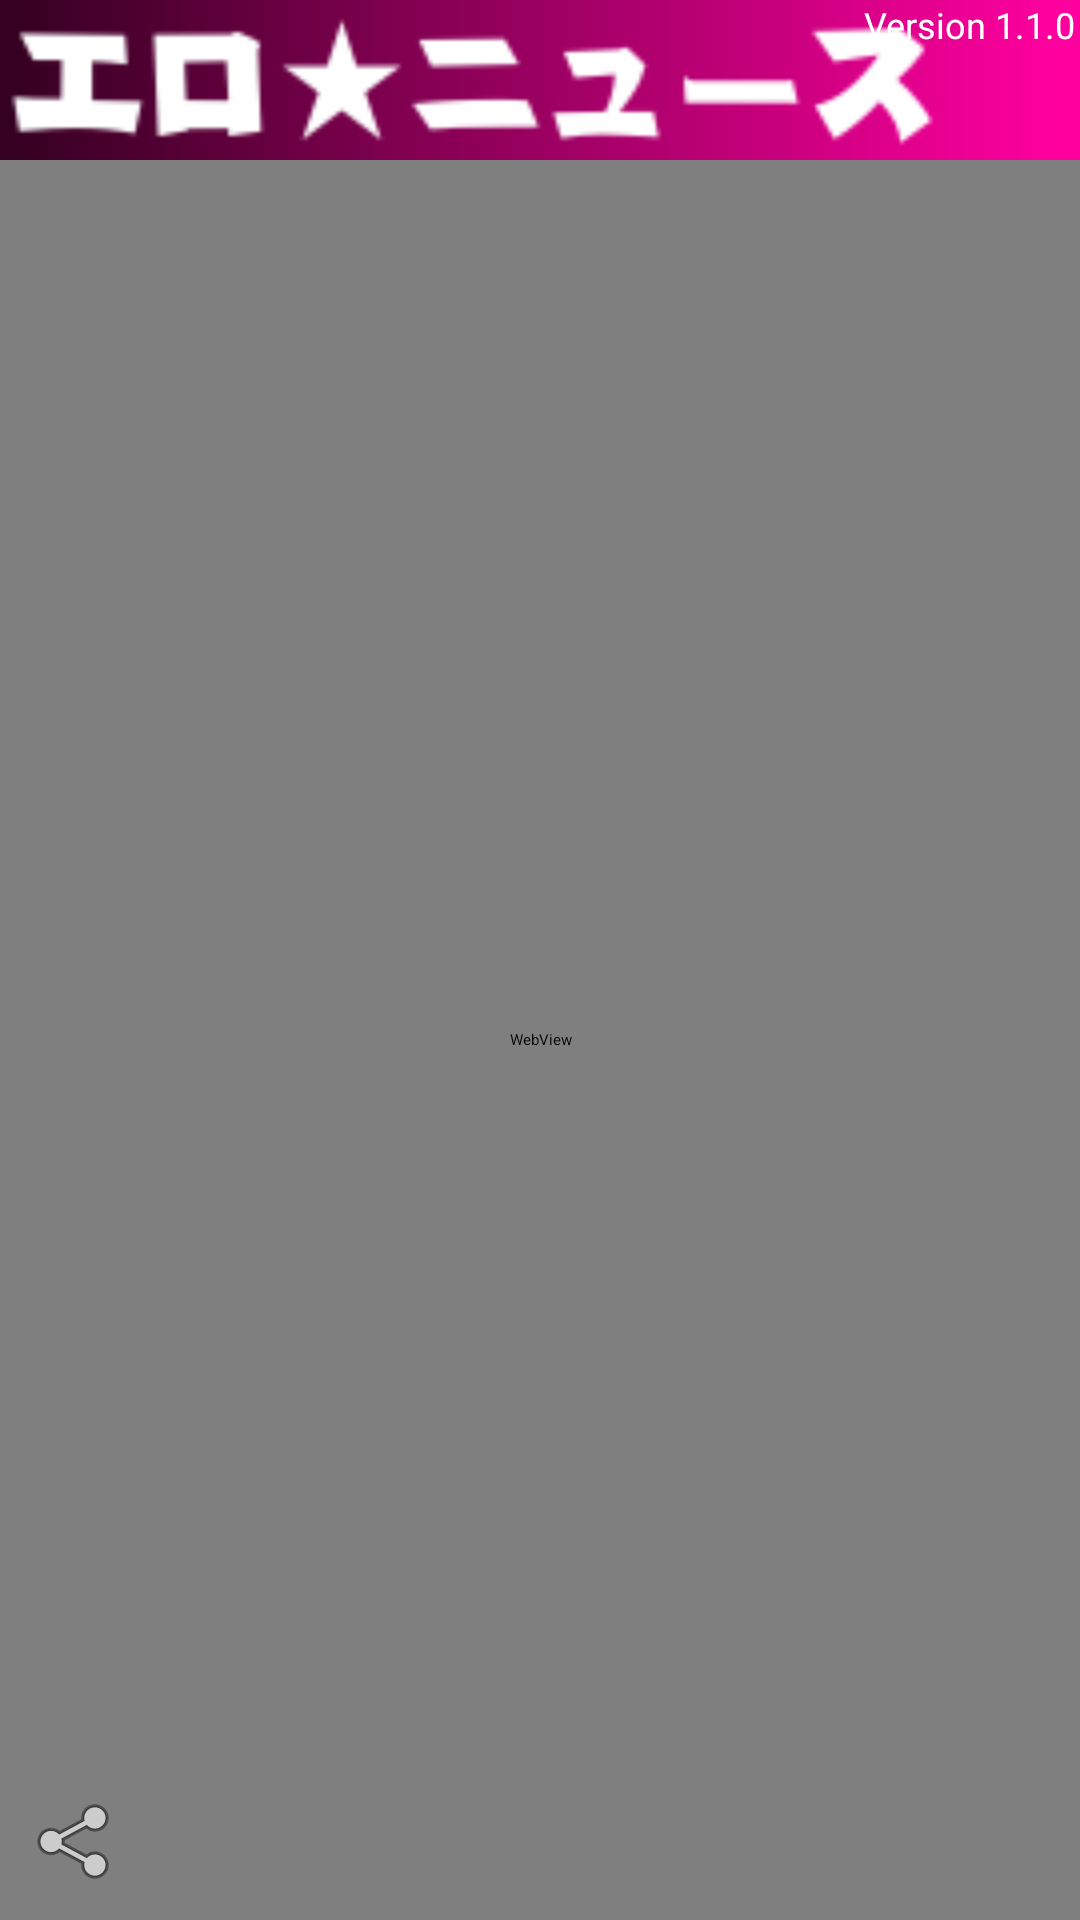

Icons on this 1080x1920 Android screen, each with its box as bbox=(x1, y1, x2, y2):
Share: bbox=(37, 1804, 109, 1879)
